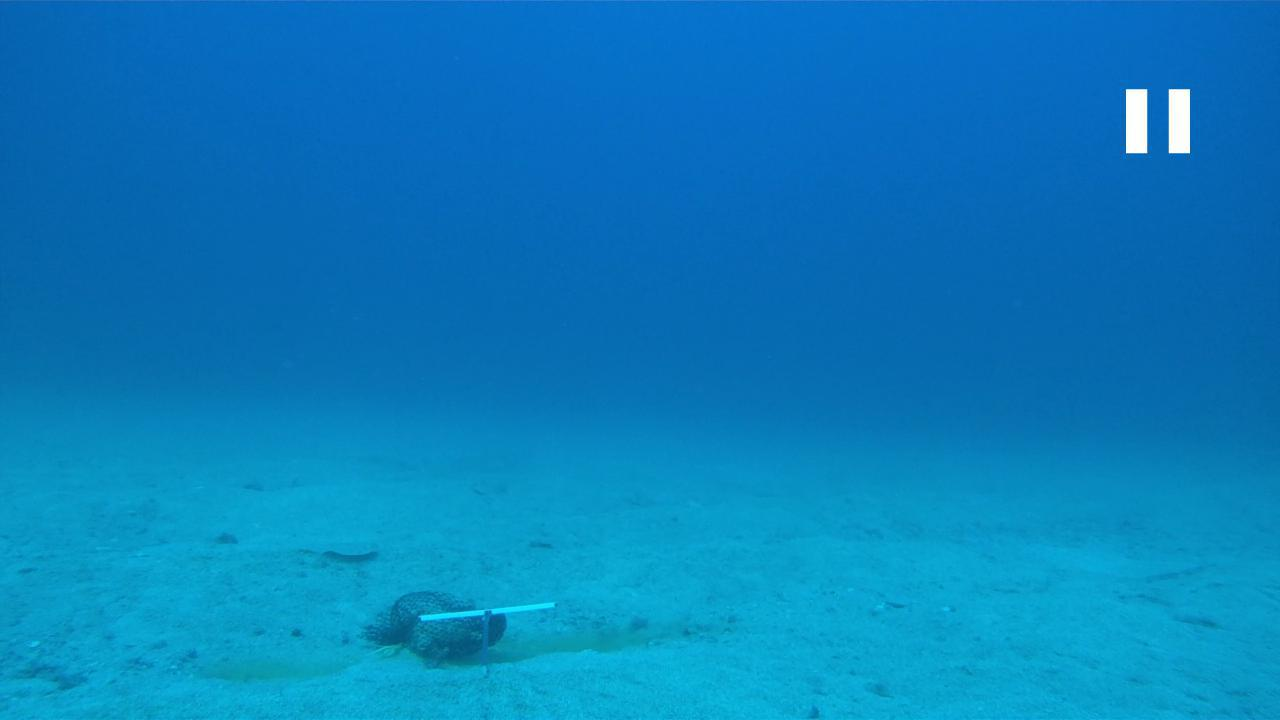bothus: (282, 534, 386, 560)
